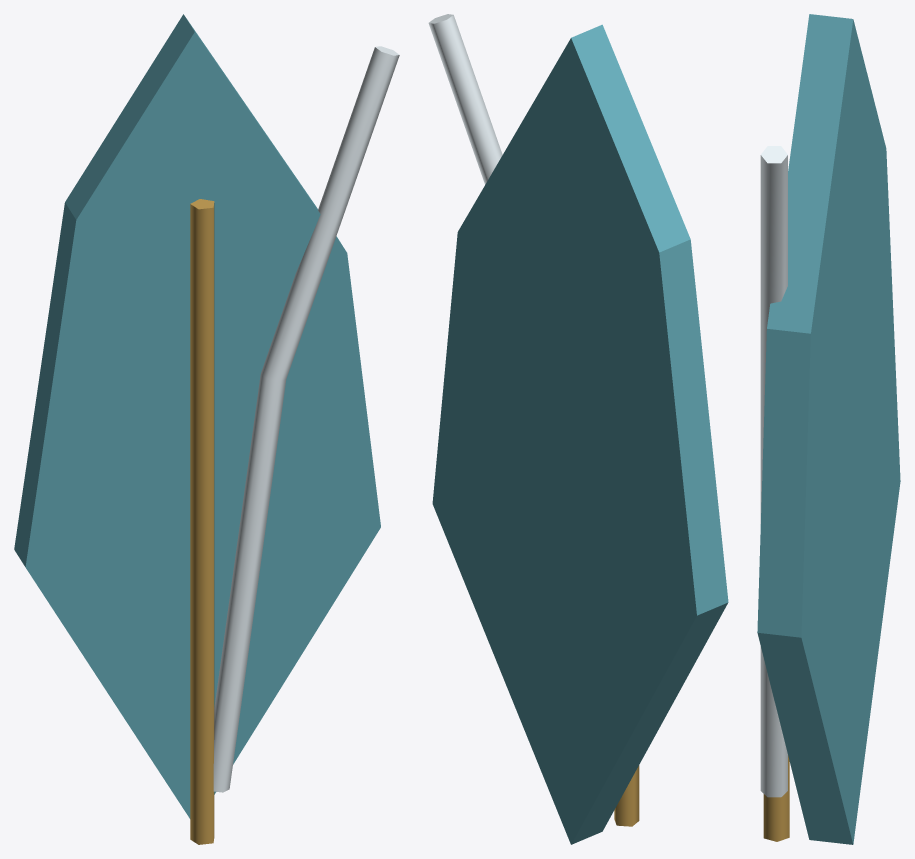
Rendered from siren_feather.fbx.
3 renders of one model, left to right at view 1: azimuth 30°, elevation 25°; view 2: azimuth 150°, elevation 25°; view 3: azimuth 270°, elevation 25°, orthographic. The views are drawn at different scales.
Parts seen in each view (by area): view 1: siren_feather; view 2: siren_feather; view 3: siren_feather.
Boxes of the visible parts, x1,y1,x2,y2 form: siren_feather: (14, 14, 399, 844); siren_feather: (428, 14, 728, 844); siren_feather: (757, 14, 900, 844).
Size of the model in its own units: 0.3494 by 0.8 by 0.1256.
